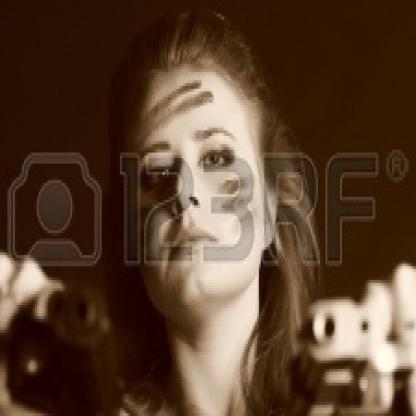gun: (281, 250, 414, 413), (0, 269, 132, 414)
